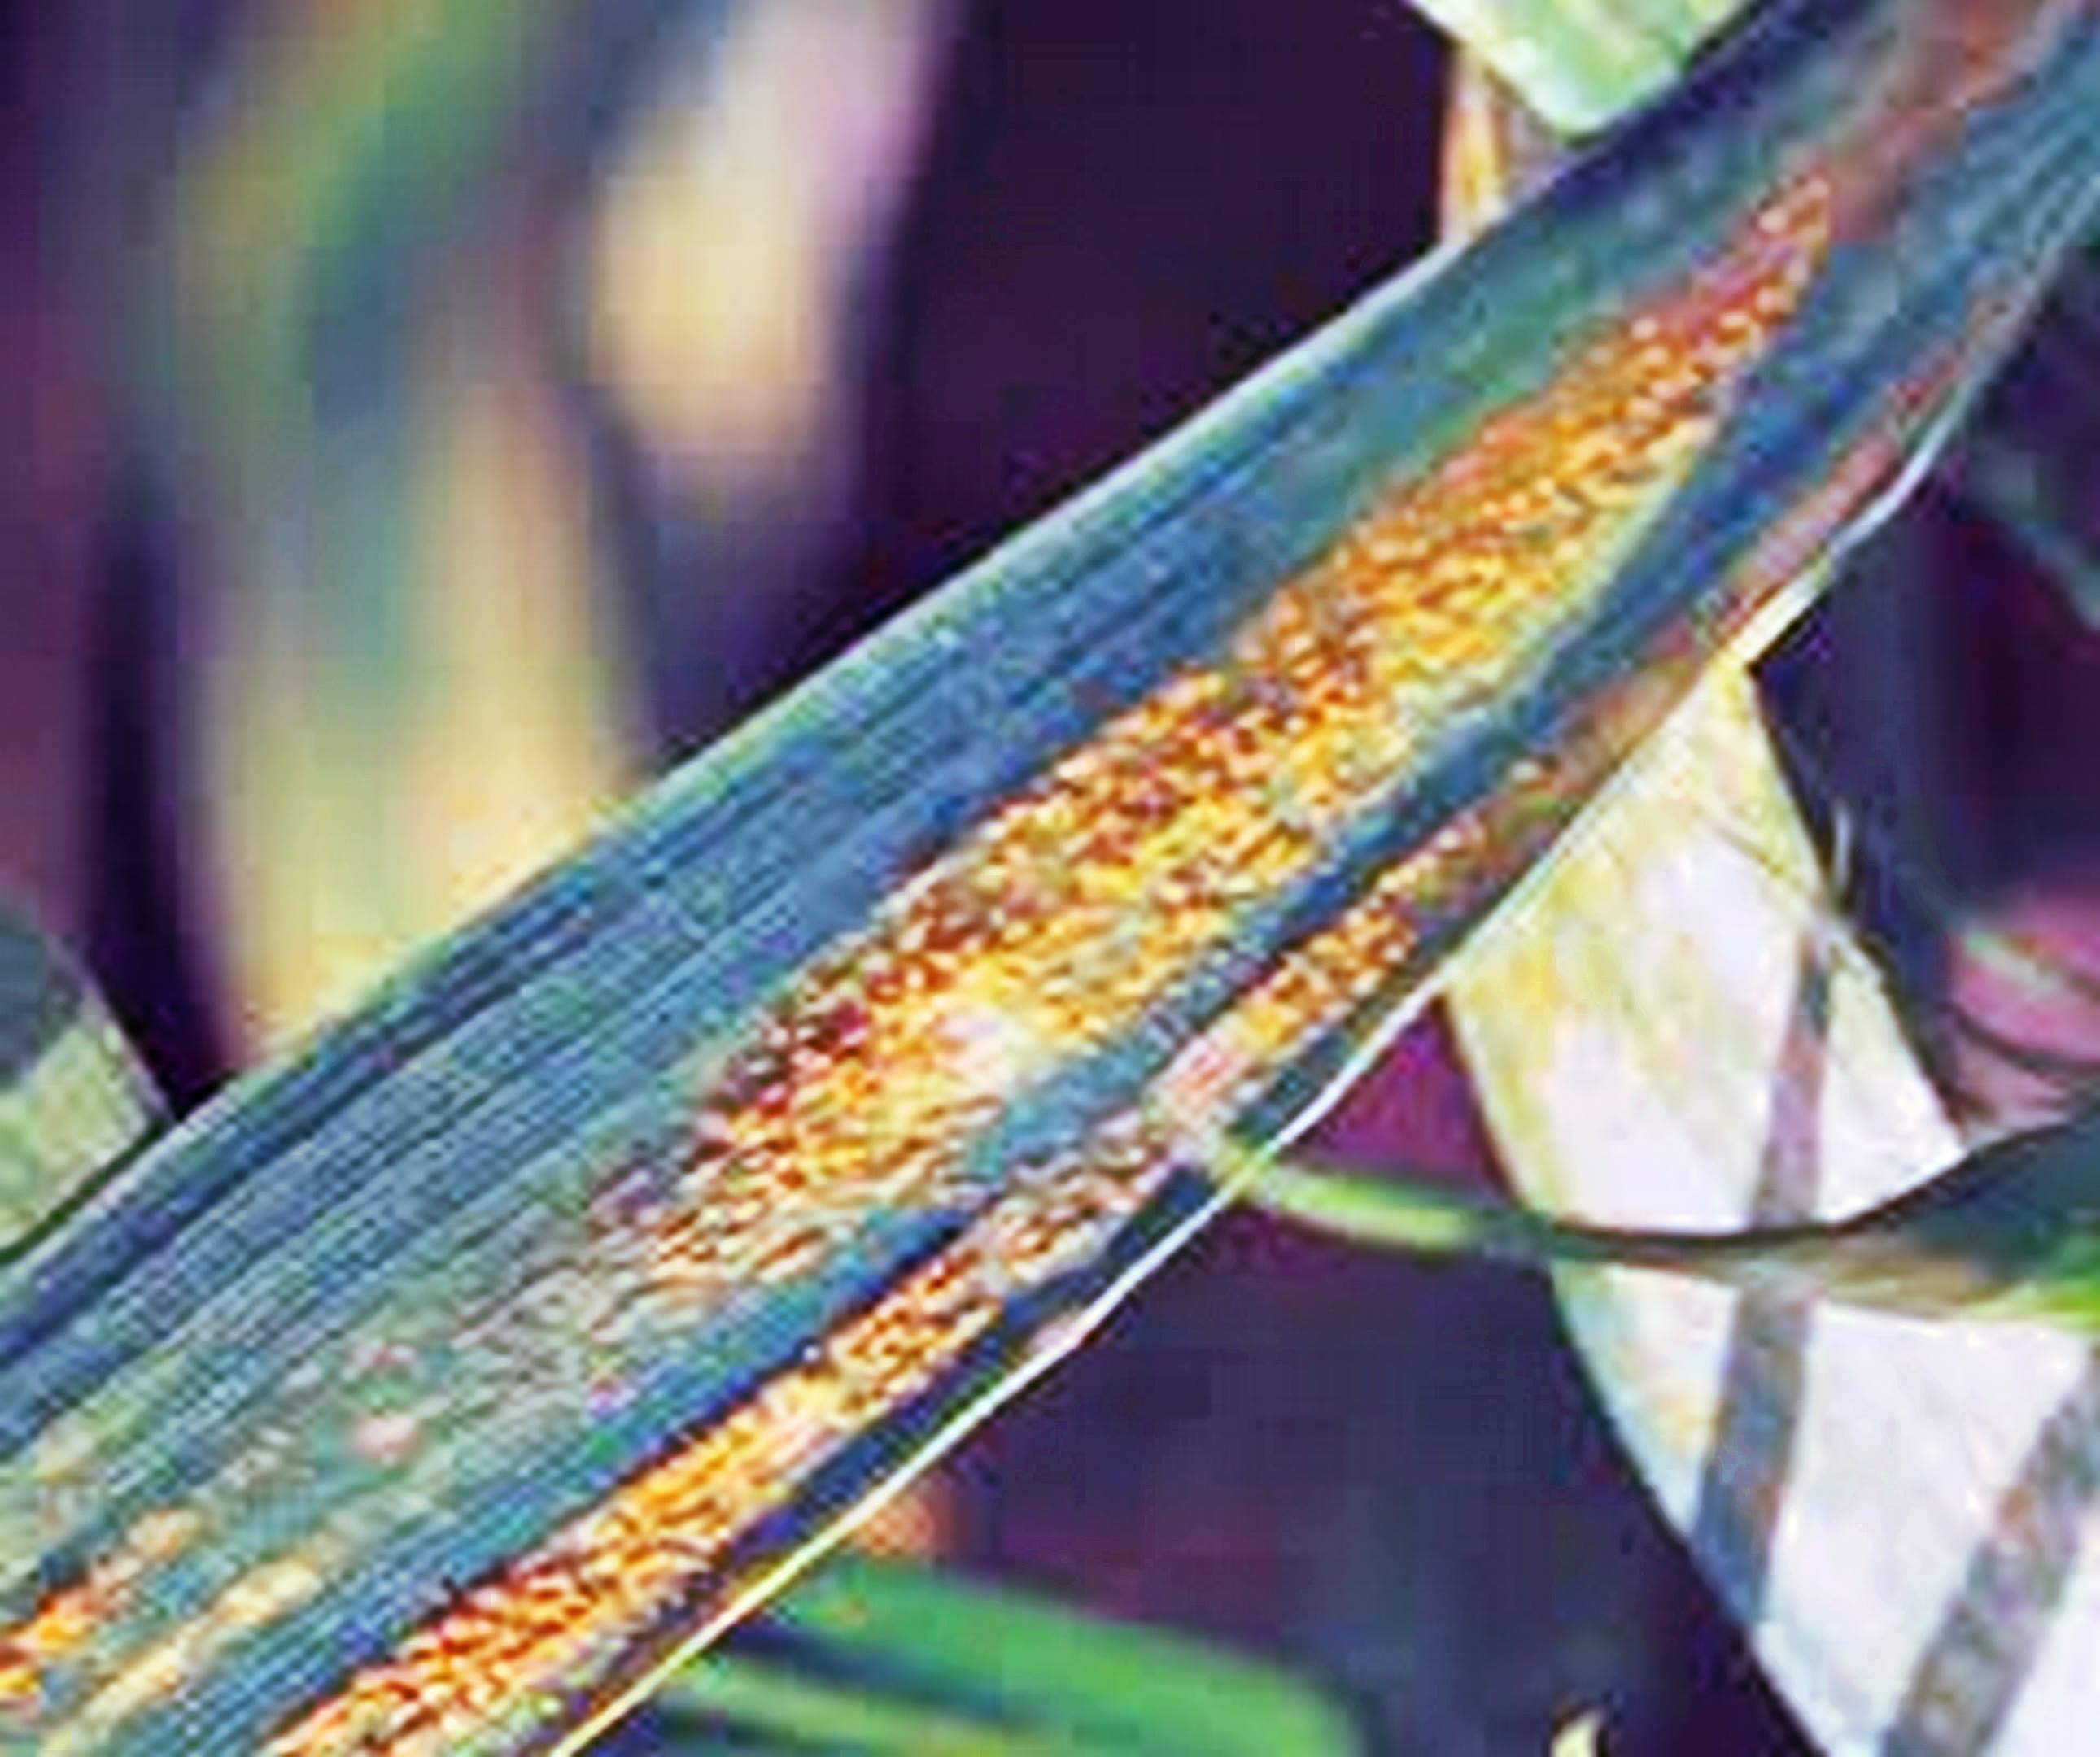Leaf Rust: (577, 216, 1887, 1645)
